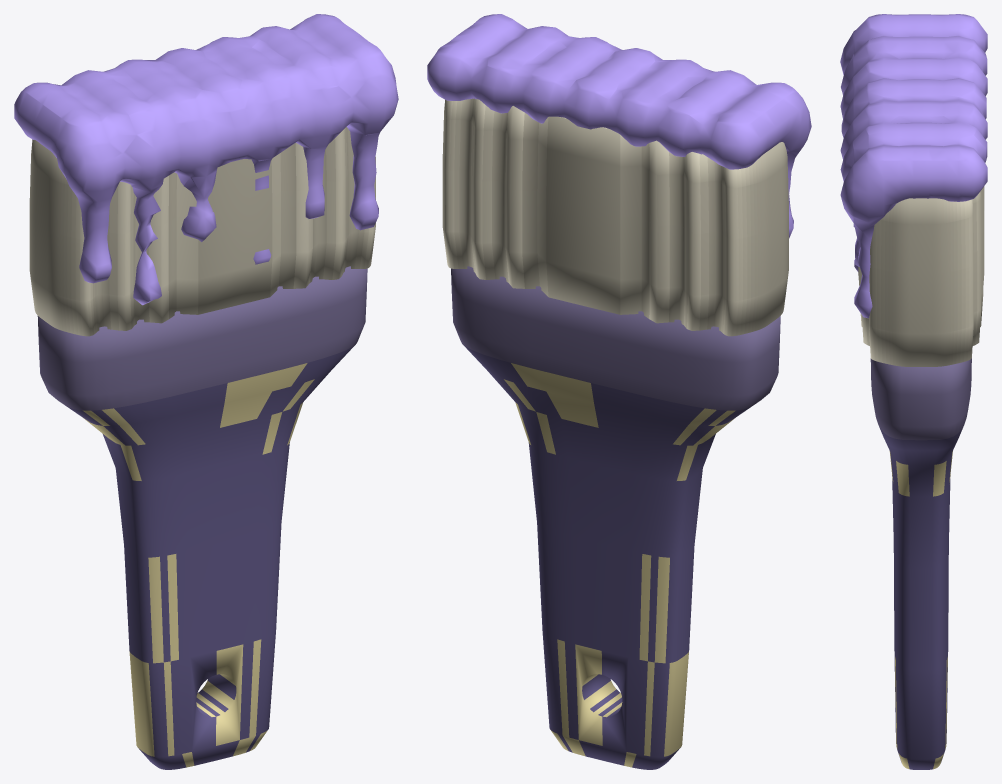
Rendered from Paintbrush_Wizard.glb.
3 views of the same model, side by side, from view 1: azimuth 30°, elevation 25°; view 2: azimuth 150°, elevation 25°; view 3: azimuth 270°, elevation 25° (orthographic). The views are drawn at different scales.
Visible parts, largest first — view 1: Body, Paint, Bristles; view 2: Body, Bristles, Paint; view 3: Paint, Body, Bristles.
Part boxes in pixels (<box>): Body: <box>37,266,367,769</box>; Paint: <box>14,14,398,305</box>; Bristles: <box>29,127,375,336</box>; Body: <box>451,266,780,769</box>; Bristles: <box>442,98,788,336</box>; Paint: <box>427,14,811,238</box>; Paint: <box>840,14,987,318</box>; Body: <box>870,358,971,769</box>; Bristles: <box>858,186,984,366</box>.
Size of the model in its own units: 1.23 by 2.44 by 0.4919.
